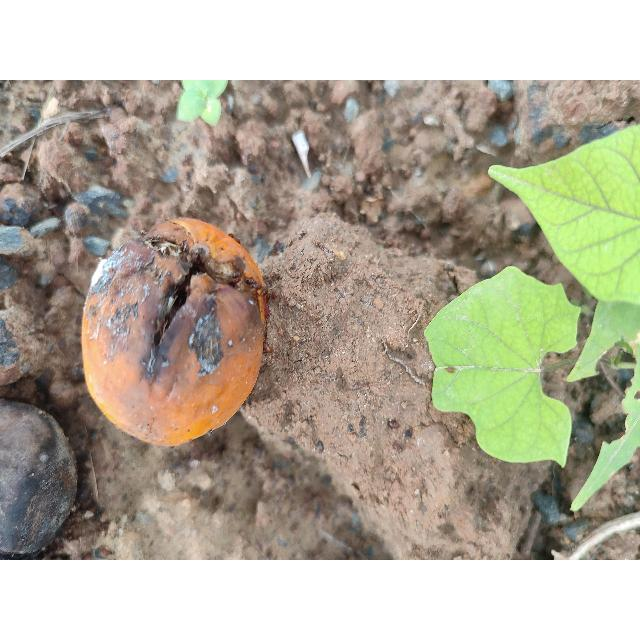damaged: (79, 217, 274, 449)
